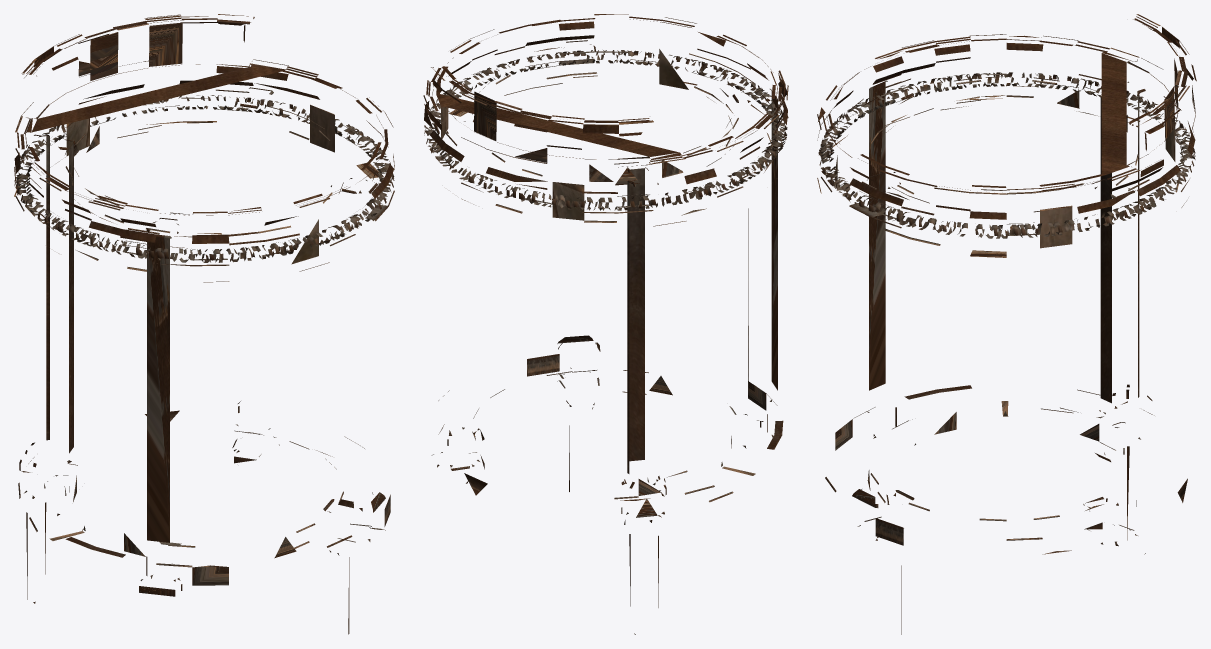
File: stool.gltf
3 renders of one model, left to right at view 1: azimuth 30°, elevation 25°; view 2: azimuth 150°, elevation 25°; view 3: azimuth 270°, elevation 25°, orthographic. The views are drawn at different scales.
Parts seen in each view (by area): view 1: bar_chair_round_01; view 2: bar_chair_round_01; view 3: bar_chair_round_01.
Boxes of the visible parts, x1,y1,x2,y2 form: bar_chair_round_01: (14, 14, 394, 634); bar_chair_round_01: (423, 14, 788, 634); bar_chair_round_01: (817, 14, 1196, 634).
Bounding box in the file's own units: 0.4832 × 0.7505 × 0.4843.
Materials: 1 (1 with a texture image).
